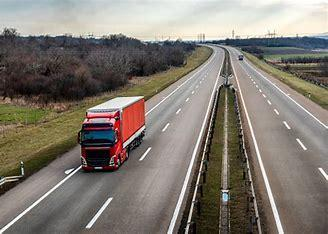truck: (80, 89, 158, 178)
